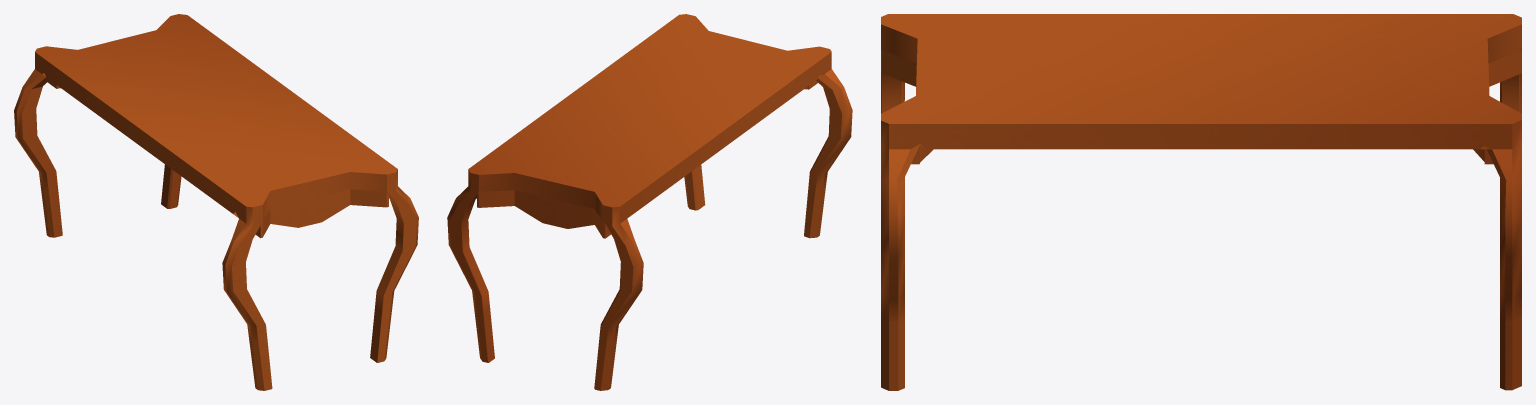
The model's file is lukupöytä.fbx.
3 renders of one model, left to right at view 1: azimuth 30°, elevation 25°; view 2: azimuth 150°, elevation 25°; view 3: azimuth 270°, elevation 25°, orthographic. The views are drawn at different scales.
Visible parts, largest first — view 1: pCube1; view 2: pCube1; view 3: pCube1.
Part boxes in pixels (box(x1,y1,x2,y2)): pCube1: box(14, 14, 418, 390); pCube1: box(447, 14, 852, 390); pCube1: box(881, 14, 1521, 390).
Size of the model in its own units: 3.48 by 3.2 by 6.74.
